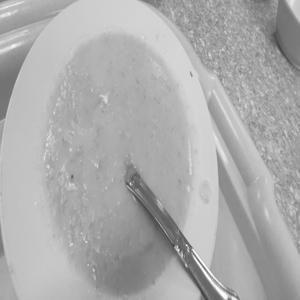porridge: (23, 27, 203, 287)
